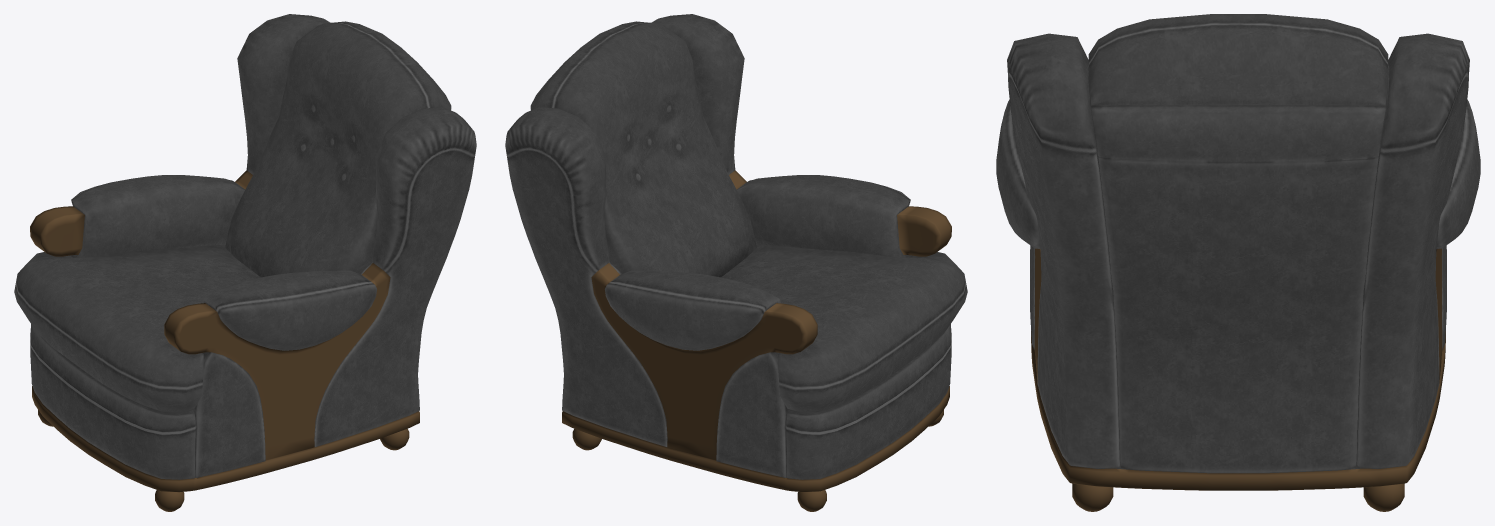
File: GreyChair.glb
3 views of the same model, side by side, from view 1: azimuth 30°, elevation 25°; view 2: azimuth 150°, elevation 25°; view 3: azimuth 270°, elevation 25° (orthographic). The views are drawn at different scales.
Parts seen in each view (by area): view 1: armchair_classic_ch_models_armchair_classic_ch_models_01; view 2: armchair_classic_ch_models_armchair_classic_ch_models_01; view 3: armchair_classic_ch_models_armchair_classic_ch_models_01.
Part boxes in pixels (x1=…): armchair_classic_ch_models_armchair_classic_ch_models_01: x1=14, y1=14, x2=476, y2=511; armchair_classic_ch_models_armchair_classic_ch_models_01: x1=505, y1=14, x2=967, y2=511; armchair_classic_ch_models_armchair_classic_ch_models_01: x1=996, y1=14, x2=1480, y2=511.
Bounding box in the file's own units: 0.9352 × 0.941 × 0.8082.
Materials: 2 (1 with a texture image).
